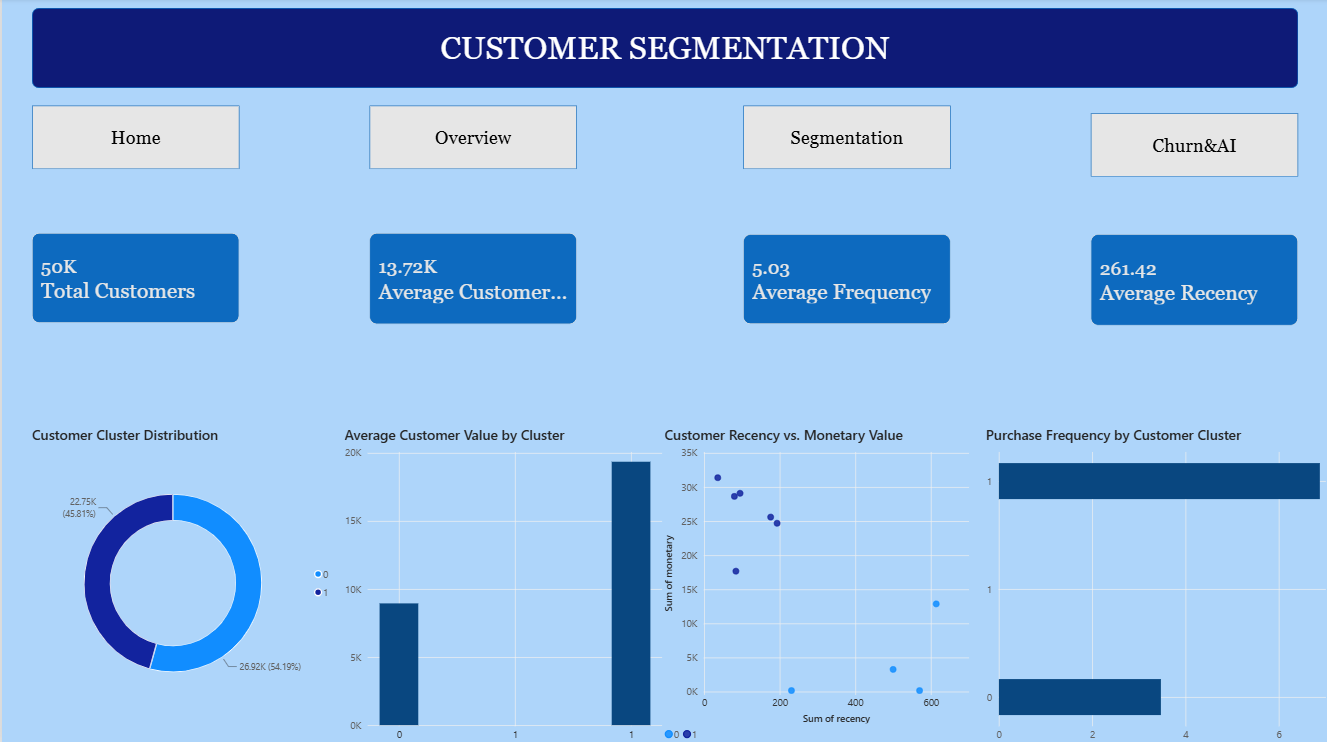

The dashboard page shown, as its layout file describes it:
{"tool":"powerbi","page":{"name":"Segmentation","canvas":[1920,1080],"ordinal":2},"visuals":[{"type":"cardVisual","fields":{"Data":["customer_intelligence.Total Customers"]},"box":[43.4,340.2,300.4,130.3],"z":0},{"type":"cardVisual","fields":{"Data":["customer_intelligence.Average Customer Value"]},"box":[532,340.2,300.4,132.1],"z":1000},{"type":"cardVisual","fields":{"Data":["customer_intelligence.Average Recency"]},"box":[1576.2,342,300.4,132.1],"z":2000},{"type":"cardVisual","fields":{"Data":["customer_intelligence.Average Frequency"]},"box":[1073.1,342,300.4,130.3],"z":3000},{"type":"shape","box":[43.4,14.5,1833.2,115.8],"z":4000},{"type":"shape","box":[43.4,155.6,300.4,92.3],"z":5000},{"type":"shape","box":[1073.1,155.6,300.4,92.3],"z":6000},{"type":"shape","box":[532,155.6,300.4,92.3],"z":7000},{"type":"shape","box":[1576.2,166.5,300.4,92.3],"z":8000},{"type":"donutChart","title":"Customer Cluster Distribution","fields":{"Category":["customer_intelligence.cluster"],"Y":["CountNonNull(customer_intelligence.customer_id)"]},"box":[43.4,618.9,437.9,427.1],"z":10000},{"type":"clusteredColumnChart","title":"Average Customer Value by Cluster","fields":{"Y":["customer_intelligence.Average Customer Value"],"Category":["customer_intelligence.cluster"]},"box":[495.8,618.9,459.7,461.5],"z":11000},{"type":"scatterChart","title":"Customer Recency vs. Monetary Value","fields":{"Series":["customer_intelligence.cluster"],"Category":["customer_intelligence.customer_id"],"X":["Sum(ai_retention_recommendations.recency)"],"Y":["Sum(ai_retention_recommendations.monetary)"]},"box":[959.1,618.9,452.4,461.5],"z":12000},{"type":"clusteredBarChart","title":"Purchase Frequency by Customer Cluster","fields":{"Category":["customer_intelligence.cluster"],"Y":["customer_intelligence.Average Frequency"]},"box":[1424.2,618.9,495.8,461.5],"z":13000}]}

Visuals, with their boxes in screenshot pixels (x1, y1, x2, y2), scaled from the page's 1920x1080 canvas onto the 1327x742 screenshot:
cardVisual - customer_intelligence.Total Customers: {"x1": 30, "y1": 234, "x2": 238, "y2": 323}
cardVisual - customer_intelligence.Average Customer Value: {"x1": 368, "y1": 234, "x2": 575, "y2": 324}
cardVisual - customer_intelligence.Average Recency: {"x1": 1089, "y1": 235, "x2": 1297, "y2": 326}
cardVisual - customer_intelligence.Average Frequency: {"x1": 742, "y1": 235, "x2": 949, "y2": 324}
shape: {"x1": 30, "y1": 10, "x2": 1297, "y2": 90}
shape: {"x1": 30, "y1": 107, "x2": 238, "y2": 170}
shape: {"x1": 742, "y1": 107, "x2": 949, "y2": 170}
shape: {"x1": 368, "y1": 107, "x2": 575, "y2": 170}
shape: {"x1": 1089, "y1": 114, "x2": 1297, "y2": 178}
"Customer Cluster Distribution" donutChart: {"x1": 30, "y1": 425, "x2": 333, "y2": 719}
"Average Customer Value by Cluster" clusteredColumnChart: {"x1": 343, "y1": 425, "x2": 660, "y2": 741}
"Customer Recency vs. Monetary Value" scatterChart: {"x1": 663, "y1": 425, "x2": 976, "y2": 741}
"Purchase Frequency by Customer Cluster" clusteredBarChart: {"x1": 984, "y1": 425, "x2": 1326, "y2": 741}
